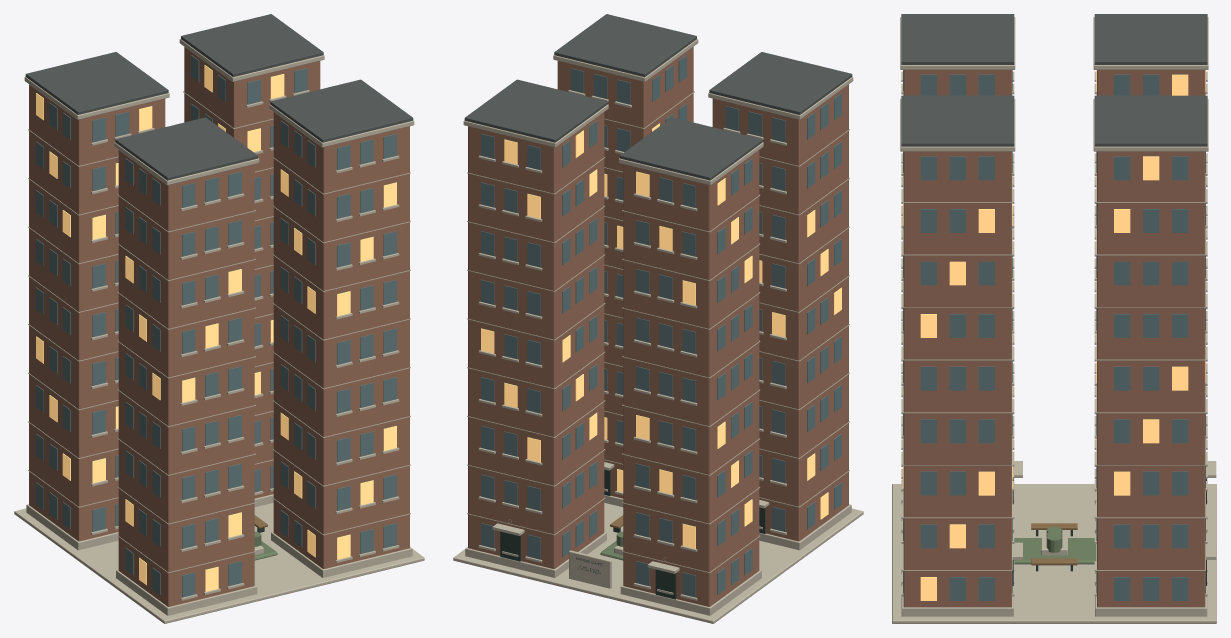
File: riverside-courts.glb
3 renders of one model, left to right at view 1: azimuth 30°, elevation 25°; view 2: azimuth 150°, elevation 25°; view 3: azimuth 270°, elevation 25°, orthographic. The views are drawn at different scales.
Visible parts, largest first — view 1: residential wing, front wing window, courtyard plinth, wing roof, front wing window.001; view 2: residential wing, front wing window, courtyard plinth, wing roof, front wing window.001, wing entry; view 3: residential wing, courtyard plinth, wing roof, front wing window, front wing window.001, central garden, courtyard bench.
Part boxes in pixels (box(x1,y1,x2,y2)): residential wing: box(29, 47, 409, 606); front wing window: box(36, 55, 396, 597); courtyard plinth: box(14, 39, 424, 623); wing roof: box(25, 14, 413, 180); front wing window.001: box(36, 65, 396, 591); residential wing: box(468, 47, 848, 606); front wing window: box(481, 55, 841, 597); courtyard plinth: box(453, 39, 863, 623); wing roof: box(464, 14, 852, 180); front wing window.001: box(481, 123, 841, 548); wing entry: box(500, 469, 765, 599); residential wing: box(903, 70, 1205, 607); courtyard plinth: box(892, 17, 1216, 623); wing roof: box(901, 14, 1207, 146); front wing window: box(903, 70, 1205, 600); front wing window.001: box(903, 70, 1205, 600); central garden: box(1013, 526, 1096, 564); courtyard bench: box(1031, 523, 1077, 565).
Size of the model in its own units: 16.8 by 27.23 by 16.8.
